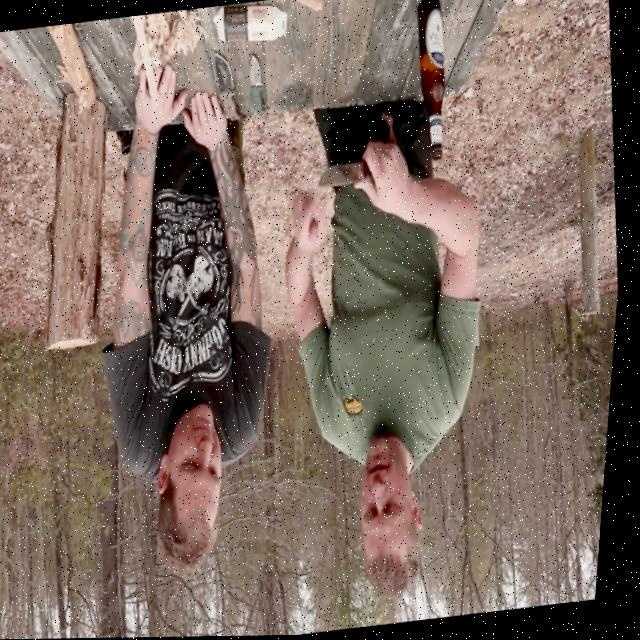knife: (211, 49, 246, 124), (318, 157, 379, 192), (245, 52, 272, 120)
